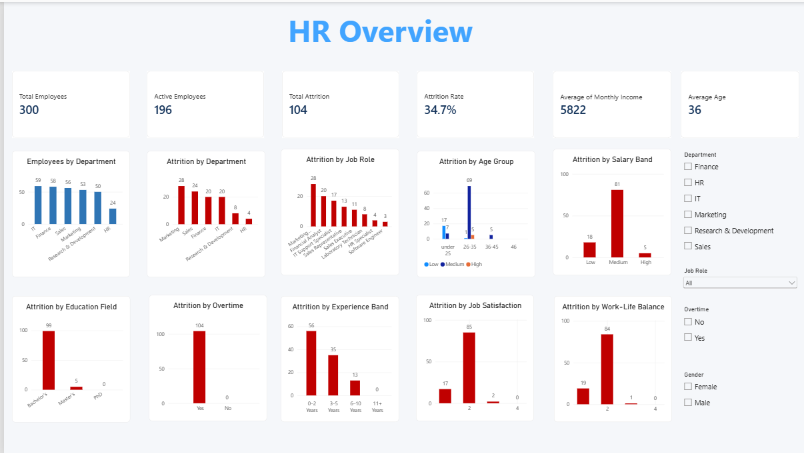

Layout of this report page (visuals, bound fields, positions):
{"tool":"powerbi","page":{"name":"HR Overview","canvas":[1920,1080],"ordinal":0},"visuals":[{"type":"cardVisual","fields":{"Data":["HR_Analytics_Dataset.Total Employees"]},"box":[20,165,281.5,159.9],"z":0},{"type":"cardVisual","fields":{"Data":["HR_Analytics_Dataset.Active Employees"]},"box":[340,165,279.2,159.9],"z":1000},{"type":"cardVisual","fields":{"Data":["HR_Analytics_Dataset.Total Attrition"]},"box":[662.5,165,279.2,159.9],"z":2000},{"type":"cardVisual","fields":{"Data":["HR_Analytics_Dataset.Attrition Rate"]},"box":[985,165,279.2,159.9],"z":3000},{"type":"cardVisual","fields":{"Data":["HR_Analytics_Dataset.Average Age"]},"box":[1615,165,282,160],"z":5000},{"type":"clusteredColumnChart","title":"Employees by Department","fields":{"Category":["HR_Analytics_Dataset.Department"],"Y":["CountNonNull(HR_Analytics_Dataset.Employee ID)"]},"box":[20,355,281.5,300.6],"z":6000},{"type":"clusteredColumnChart","title":"Attrition by Department","fields":{"Category":["HR_Analytics_Dataset.Department"],"Y":["HR_Analytics_Dataset.Total Attrition"]},"box":[340,355,282,301],"z":7000},{"type":"clusteredColumnChart","title":"Attrition by Job Role","fields":{"Category":["HR_Analytics_Dataset.Job Role"],"Y":["HR_Analytics_Dataset.Total Attrition"]},"box":[660,350,282,301],"z":8000},{"type":"clusteredColumnChart","title":"Attrition by Age Group","fields":{"Category":["HR_Analytics_Dataset.Age Group"],"Y":["HR_Analytics_Dataset.Total Attrition"],"Series":["HR_Analytics_Dataset.Salary Band"]},"box":[985,355,282,301],"z":9000},{"type":"clusteredColumnChart","title":"Attrition by Salary Band","fields":{"Category":["HR_Analytics_Dataset.Salary Band"],"Y":["HR_Analytics_Dataset.Total Attrition"]},"box":[1310,350,282,301],"z":10000},{"type":"clusteredColumnChart","title":"Attrition by Overtime","fields":{"Category":["HR_Analytics_Dataset.Overtime"],"Y":["HR_Analytics_Dataset.Attrition Count Display"]},"box":[345,700,281.5,300.6],"z":11000},{"type":"clusteredColumnChart","title":"Attrition by Education Field","fields":{"Category":["HR_Analytics_Dataset.Education"],"Y":["HR_Analytics_Dataset.Attrition Count Display"]},"box":[20,702.5,282,301],"z":12000},{"type":"clusteredColumnChart","title":"Attrition by Experience Band","fields":{"Category":["HR_Analytics_Dataset.Experience Band"],"Y":["HR_Analytics_Dataset.Attrition Count Display"]},"box":[660,702.5,281.5,300.6],"z":13000},{"type":"clusteredColumnChart","title":"Attrition by Job Satisfaction","fields":{"Category":["HR_Analytics_Dataset.Job Satisfaction"],"Y":["HR_Analytics_Dataset.Attrition Count Display"]},"box":[982.5,700,281.5,300.6],"z":14000},{"type":"clusteredColumnChart","title":"Attrition by Work-Life Balance","fields":{"Category":["HR_Analytics_Dataset.Work Life Balance"],"Y":["HR_Analytics_Dataset.Attrition Count Display"]},"box":[1312.5,702.5,281.5,300.6],"z":15000},{"type":"slicer","fields":{"Values":["HR_Analytics_Dataset.Department"]},"box":[1615,355,282.5,250],"z":16000},{"type":"slicer","fields":{"Values":["HR_Analytics_Dataset.Job Role"]},"box":[1615,632.5,282.5,92.5],"z":17000},{"type":"slicer","fields":{"Values":["HR_Analytics_Dataset.Gender"]},"box":[1615,880,282.5,120],"z":18000},{"type":"slicer","fields":{"Values":["HR_Analytics_Dataset.Overtime"]},"box":[1615,725,280,127.5],"z":19000},{"type":"textbox","box":[485,0,827.5,160],"z":20000},{"type":"cardVisual","fields":{"Data":["Avg(HR_Analytics_Dataset.Monthly Income)"]},"box":[1309.7,164,282,160],"z":20001}]}

Visuals, with their boxes in screenshot pixels (x1, y1, x2, y2), scaled from the page's 1920x1080 canvas onto the 804x453 screenshot:
cardVisual - HR_Analytics_Dataset.Total Employees: bbox=[8, 69, 126, 136]
cardVisual - HR_Analytics_Dataset.Active Employees: bbox=[142, 69, 259, 136]
cardVisual - HR_Analytics_Dataset.Total Attrition: bbox=[277, 69, 394, 136]
cardVisual - HR_Analytics_Dataset.Attrition Rate: bbox=[412, 69, 529, 136]
cardVisual - HR_Analytics_Dataset.Average Age: bbox=[676, 69, 794, 136]
"Employees by Department" clusteredColumnChart: bbox=[8, 149, 126, 275]
"Attrition by Department" clusteredColumnChart: bbox=[142, 149, 260, 275]
"Attrition by Job Role" clusteredColumnChart: bbox=[276, 147, 394, 273]
"Attrition by Age Group" clusteredColumnChart: bbox=[412, 149, 531, 275]
"Attrition by Salary Band" clusteredColumnChart: bbox=[549, 147, 667, 273]
"Attrition by Overtime" clusteredColumnChart: bbox=[144, 294, 262, 420]
"Attrition by Education Field" clusteredColumnChart: bbox=[8, 295, 126, 421]
"Attrition by Experience Band" clusteredColumnChart: bbox=[276, 295, 394, 421]
"Attrition by Job Satisfaction" clusteredColumnChart: bbox=[411, 294, 529, 420]
"Attrition by Work-Life Balance" clusteredColumnChart: bbox=[550, 295, 667, 421]
slicer - HR_Analytics_Dataset.Department: bbox=[676, 149, 795, 254]
slicer - HR_Analytics_Dataset.Job Role: bbox=[676, 265, 795, 304]
slicer - HR_Analytics_Dataset.Gender: bbox=[676, 369, 795, 419]
slicer - HR_Analytics_Dataset.Overtime: bbox=[676, 304, 794, 358]
textbox: bbox=[203, 0, 550, 67]
cardVisual - Avg(HR_Analytics_Dataset.Monthly Income): bbox=[548, 69, 667, 136]
